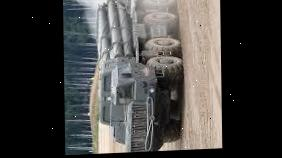rszo: (87, 0, 181, 154)
